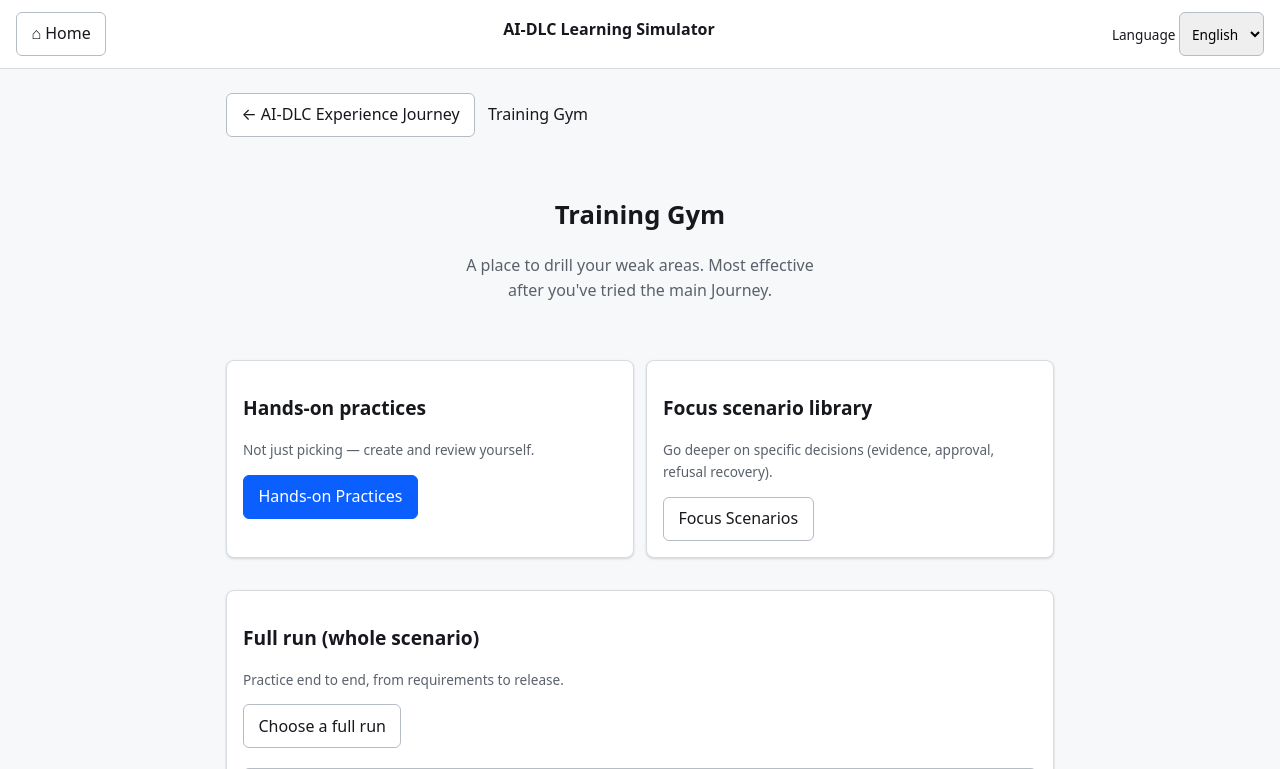
Test: RC2-stab: logical Back › Practice からの Back は Practice Library へ戻る
The width and height of the screenshot is (1280, 769).
Click the button with test id "practices": (330, 497) top-left (243, 475), bottom-right (418, 519)
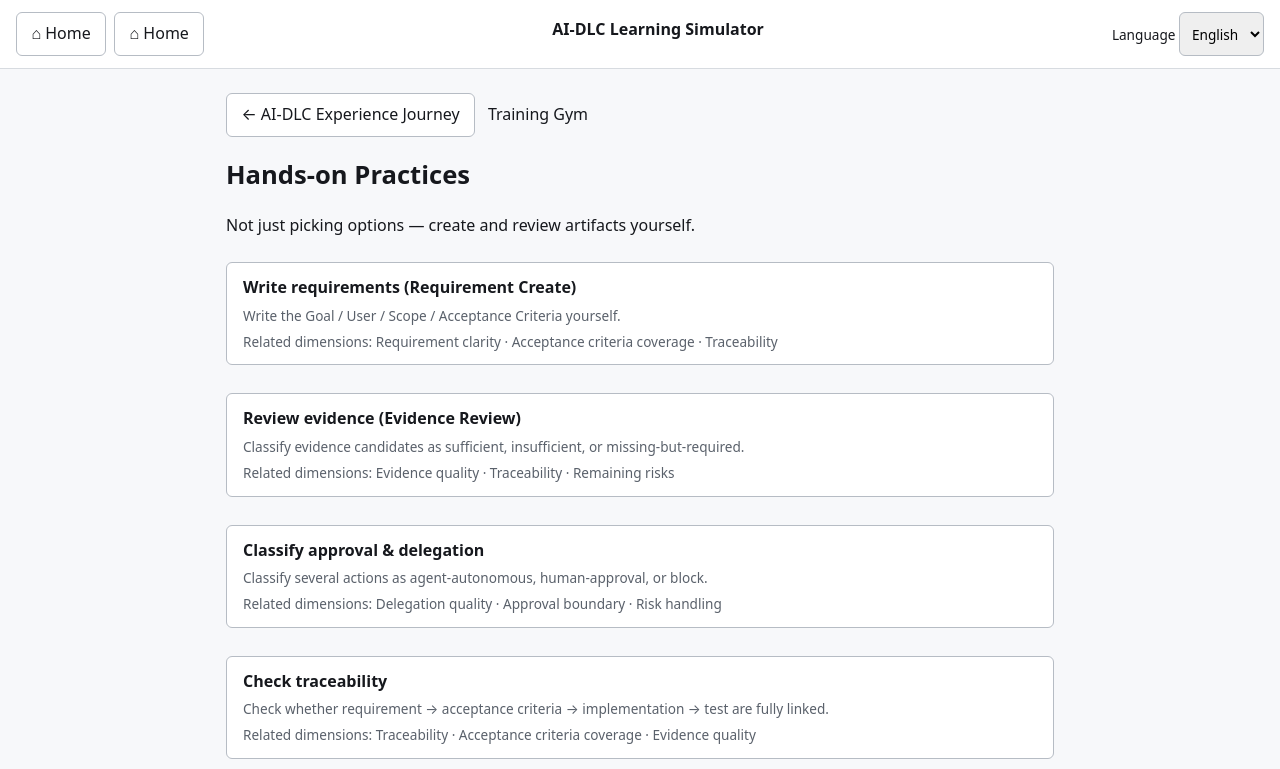
Click the button with test id "practice-req-create": (410, 287) top-left (226, 262), bottom-right (1054, 365)
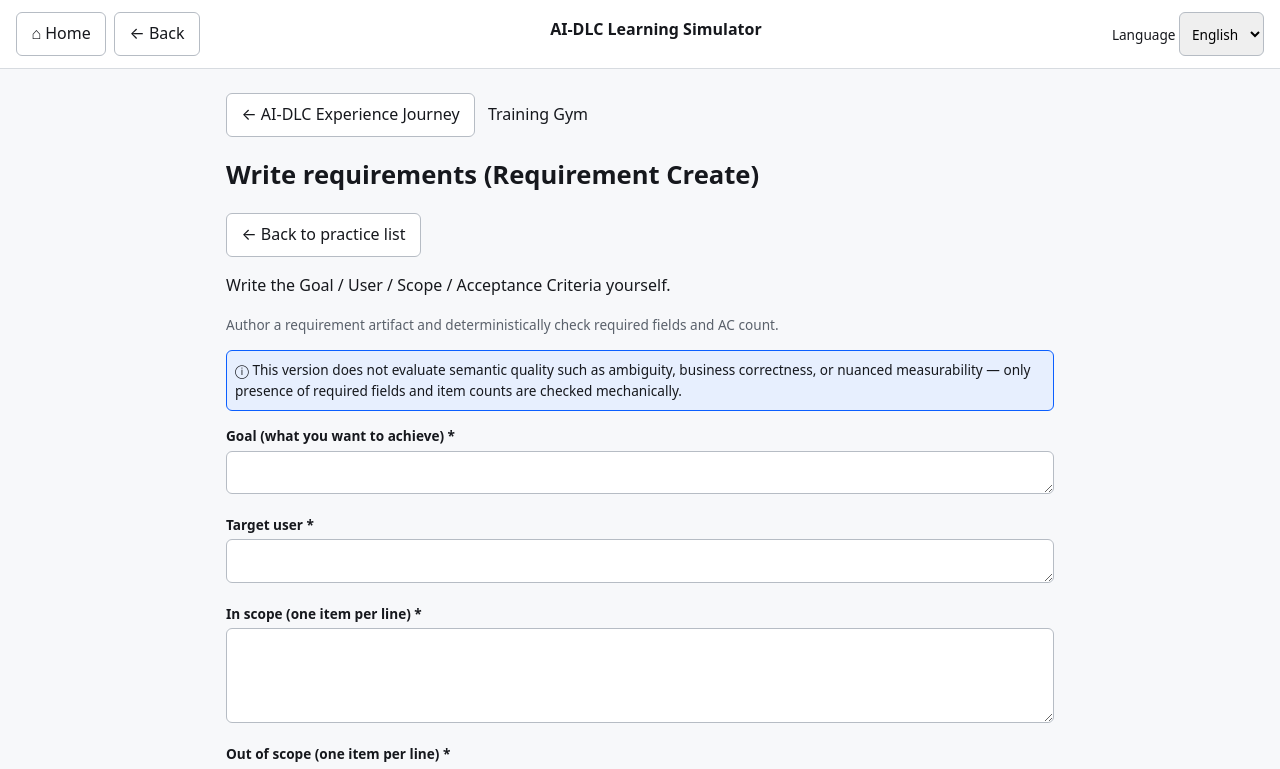
Click the button with test id "nav-back": (157, 34) top-left (114, 12), bottom-right (200, 56)
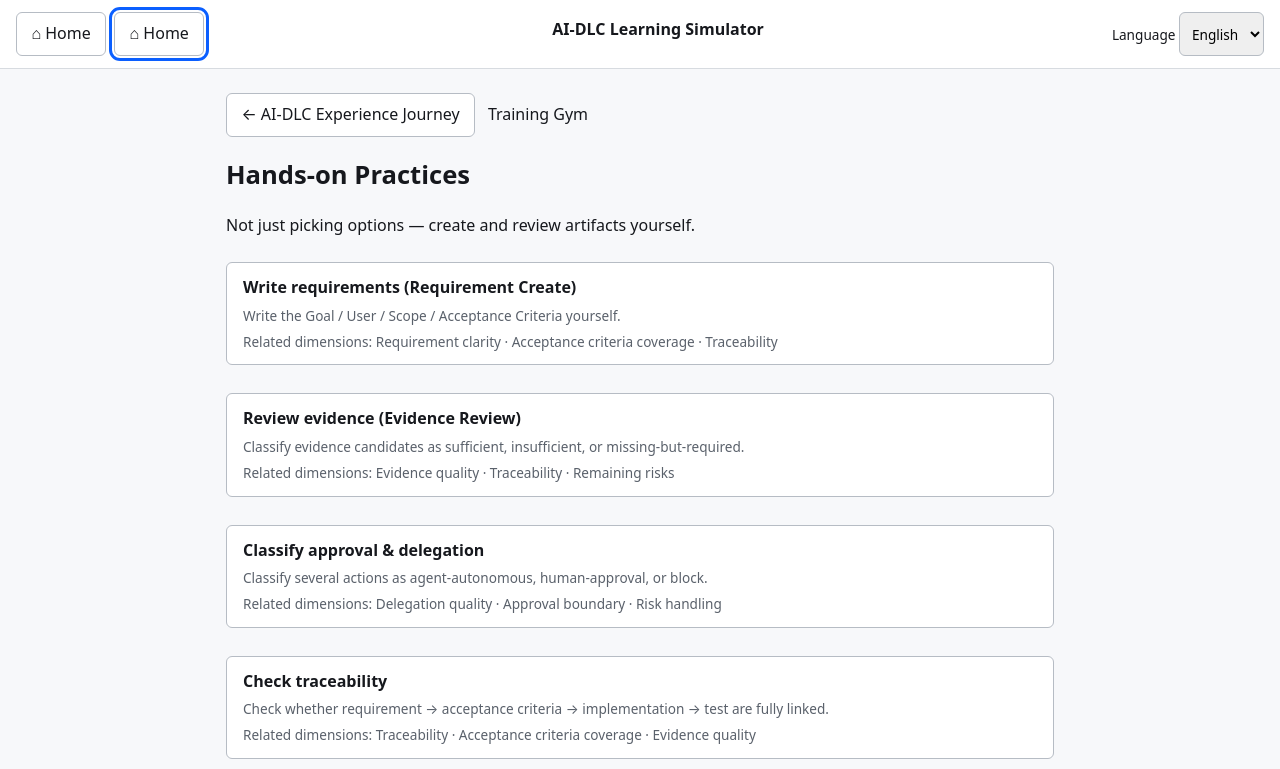
Check: the button with test id "practice-req-create" is shown, box top-left (226, 262), bottom-right (1054, 365)
